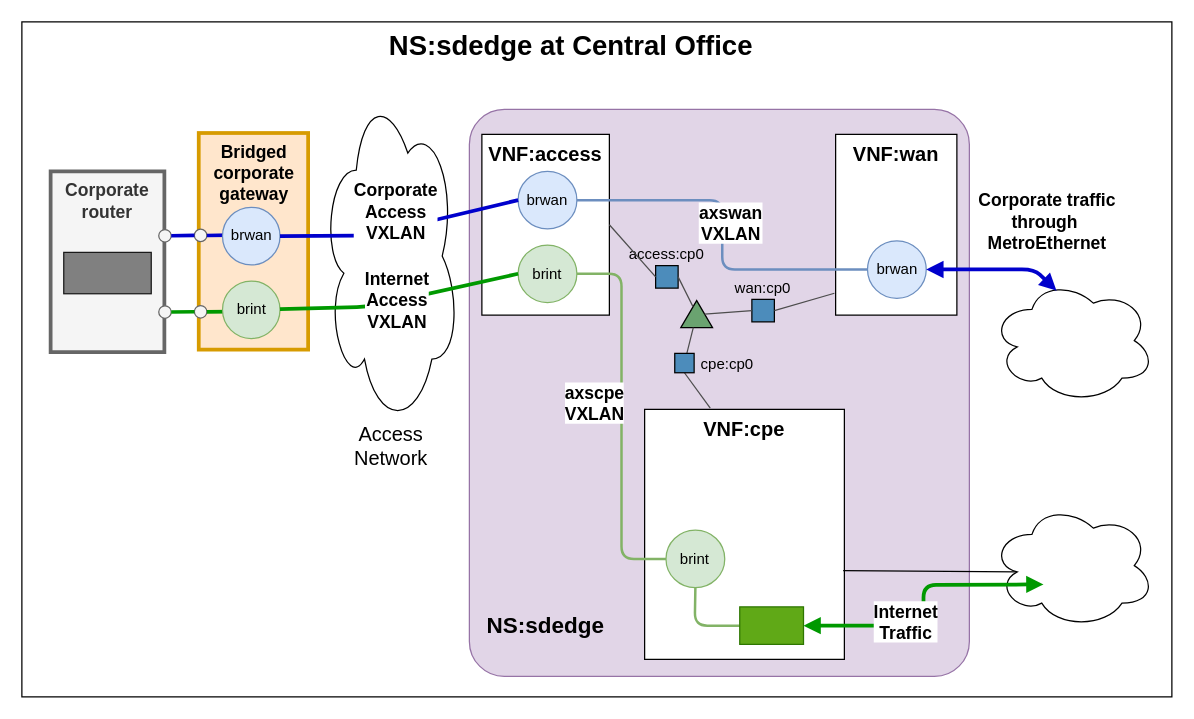
Some shapes in this 1194 by 719 pixel diagram are drawn without their labels. Each missing label, with the centre of its shape:
"Internet" goes at (x=1072, y=565).
"Metro Ethernet (MPLS)" goes at (x=1072, y=340).
"NAT" goes at (x=771, y=625).
"Routing" goes at (x=106, y=272).
